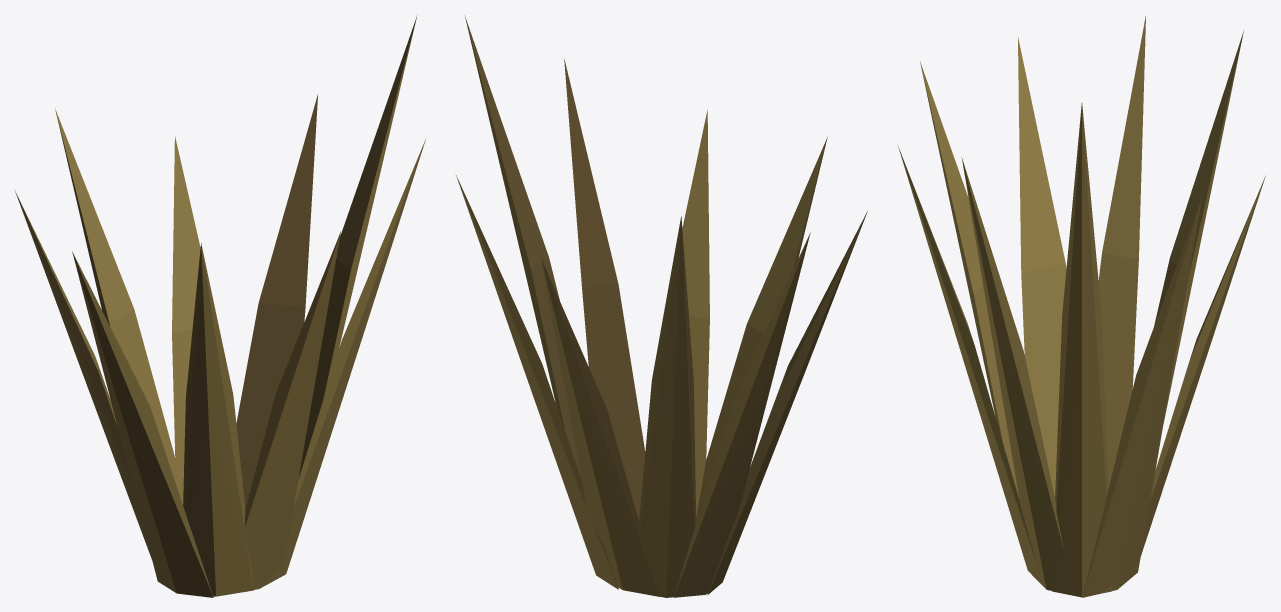
Rendered from TW_GRASS_TALL_A_LOD0.glb.
3 renders of one model, left to right at view 1: azimuth 30°, elevation 25°; view 2: azimuth 150°, elevation 25°; view 3: azimuth 270°, elevation 25°, orthographic. The views are drawn at different scales.
Parts seen in each view (by area): view 1: TW_GRASS_TALL_A_LOD0; view 2: TW_GRASS_TALL_A_LOD0; view 3: TW_GRASS_TALL_A_LOD0.
Part boxes in pixels (x1=…): TW_GRASS_TALL_A_LOD0: x1=15, y1=15, x2=425, y2=597; TW_GRASS_TALL_A_LOD0: x1=456, y1=15, x2=867, y2=597; TW_GRASS_TALL_A_LOD0: x1=898, y1=16, x2=1265, y2=597.
Size of the model in its own units: 0.65 by 0.85 by 0.5.
1 material, 1 textured.
